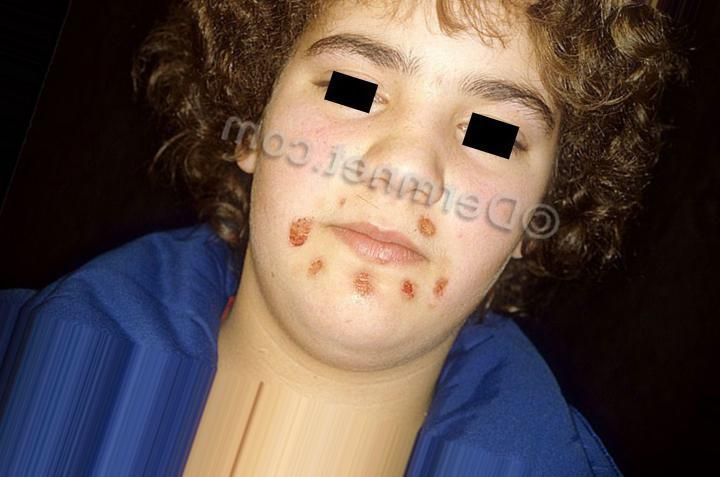Acne: (269, 199, 320, 246), (392, 270, 435, 322), (413, 208, 465, 247), (350, 259, 393, 296), (299, 247, 323, 278)
